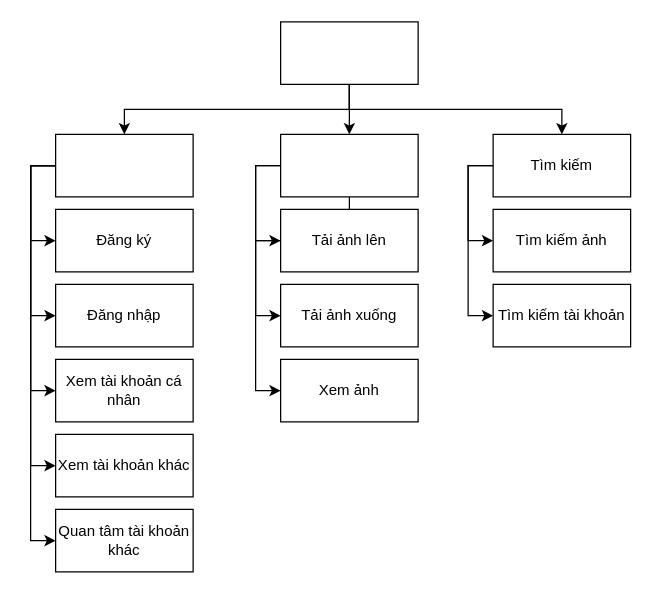
Image size: 653x594. Some labels were removed from this diagram. Here are the shapes that lost their labels. From the top down, the box of each, then its label:
(279, 21, 418, 84): Website chia sẻ ảnh
(54, 133, 193, 197): Tương tác với tài khoản
(279, 133, 418, 197): Tương tác với ảnh
